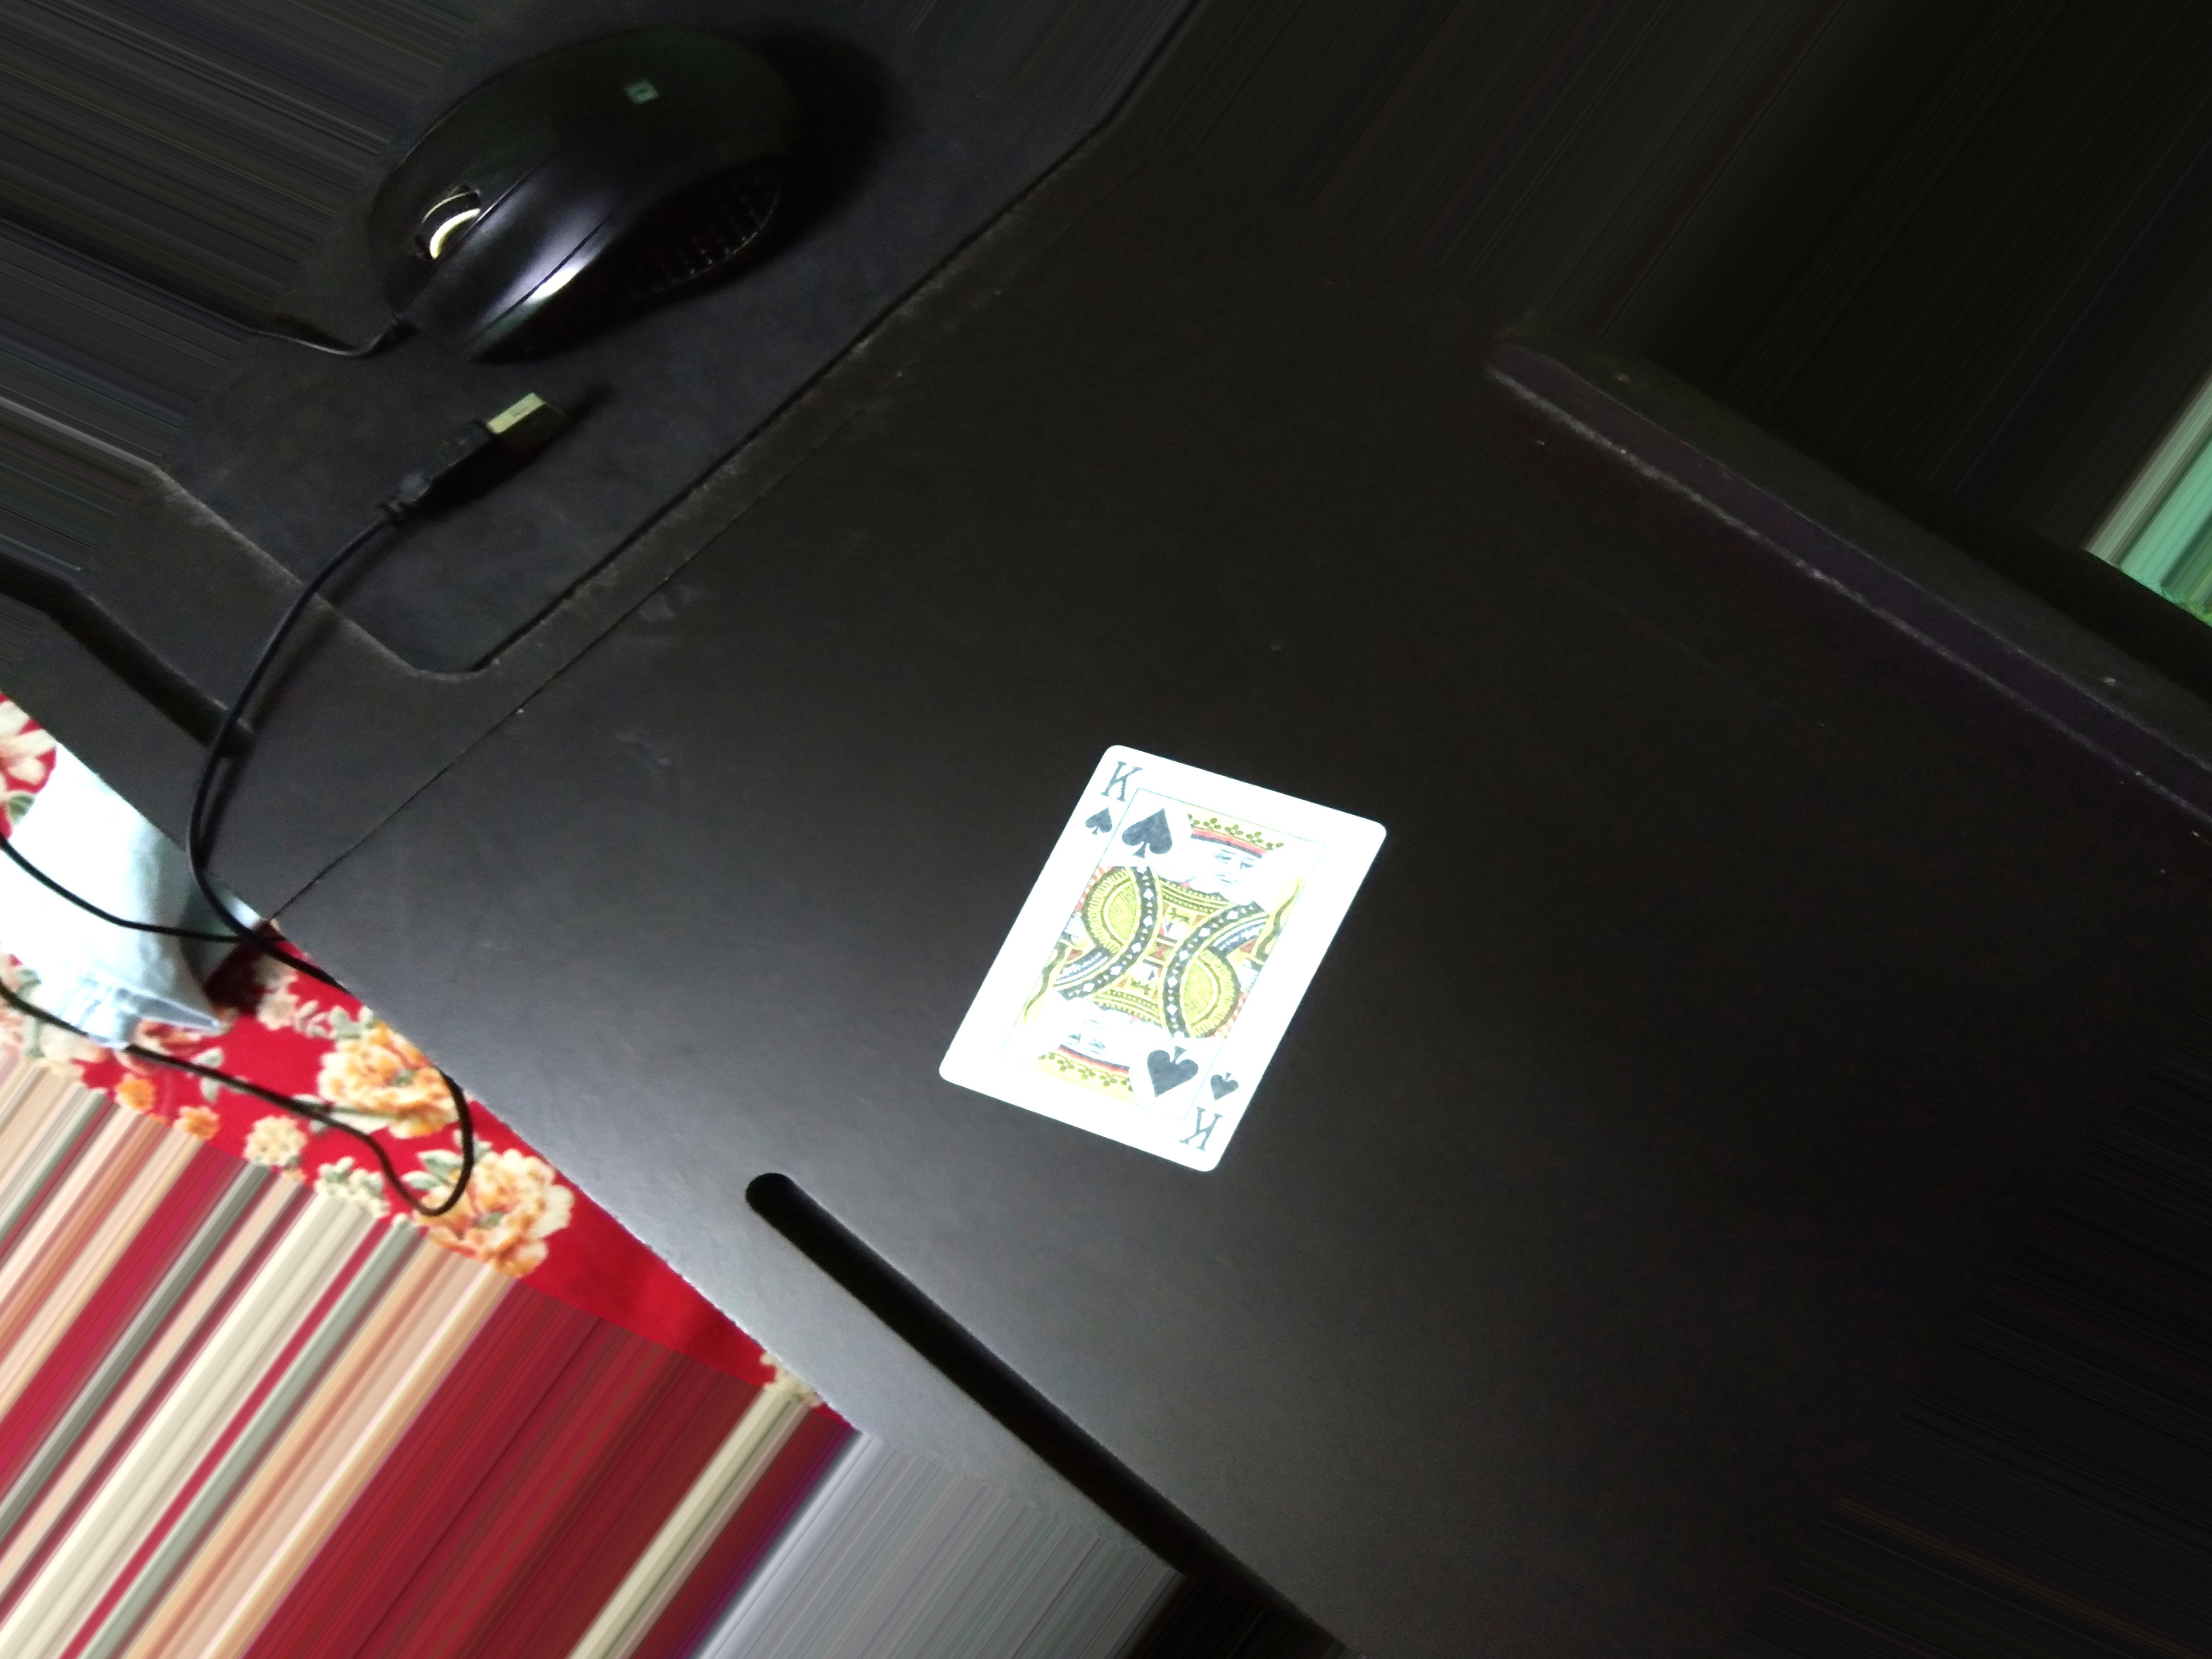KS: (1078, 753, 1146, 847)
